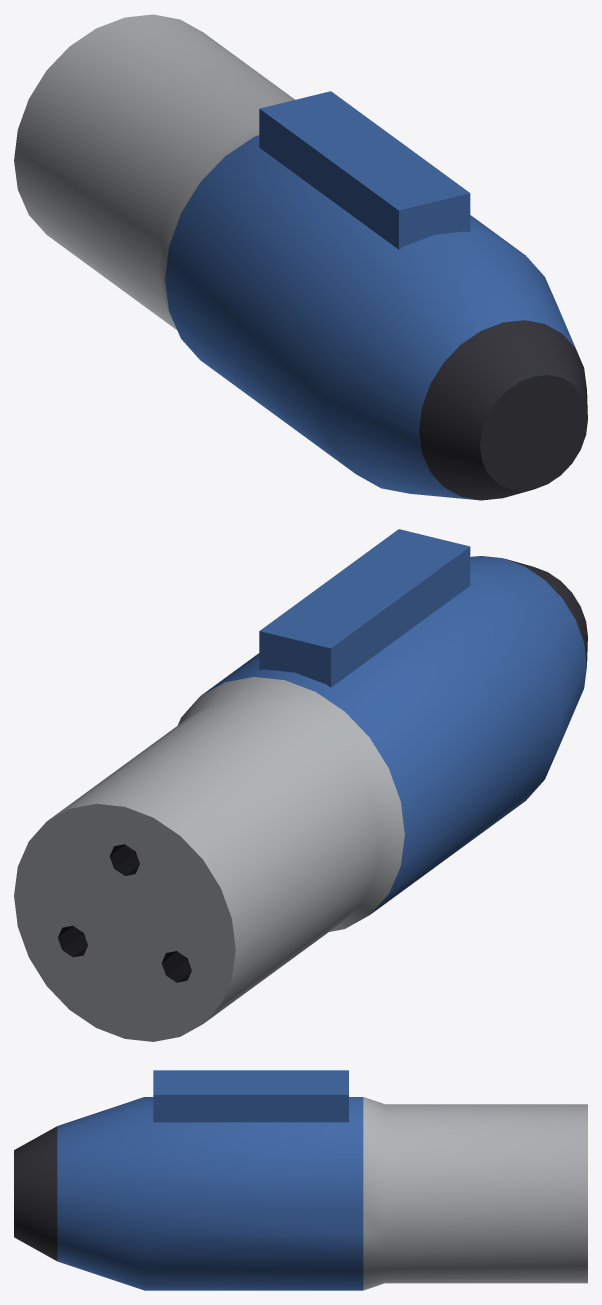
Rendered from powercon-blue.glb.
3 renders of one model, top to bottom at view 1: azimuth 30°, elevation 25°; view 2: azimuth 150°, elevation 25°; view 3: azimuth 270°, elevation 25°, orthographic. The views are drawn at different scales.
Visible parts, largest first — view 1: powercon-blue-body; view 2: powercon-blue-body; view 3: powercon-blue-body.
Part boxes in pixels (<box>): powercon-blue-body: <box>14,14,587,500</box>; powercon-blue-body: <box>14,529,587,1041</box>; powercon-blue-body: <box>14,1070,587,1290</box>.
Size of the model in its own units: 0.0268 by 0.0303 by 0.0793.
